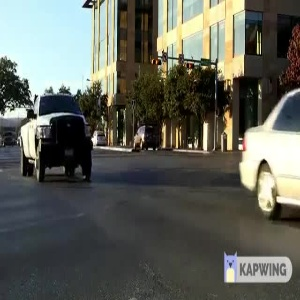suv: (127, 126, 161, 152)
truck: (17, 90, 97, 186)
